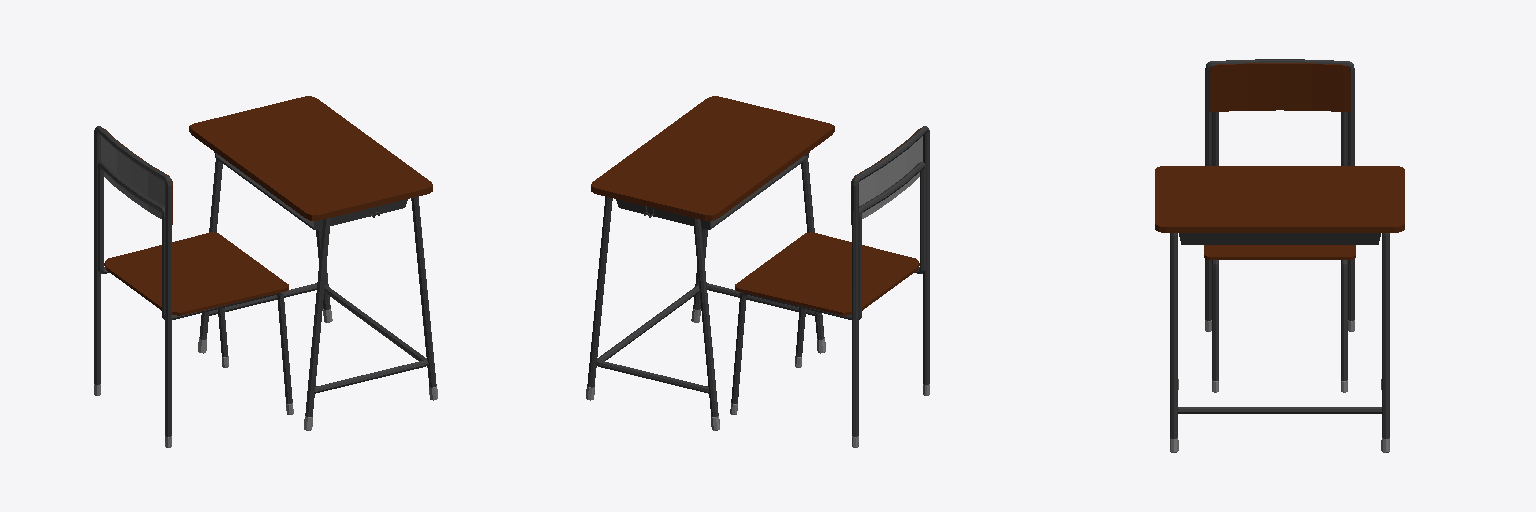
File: desk.obj
The picture shows the model from 3 angles: view 1: azimuth 30°, elevation 25°; view 2: azimuth 150°, elevation 25°; view 3: azimuth 270°, elevation 25°; orthographic projection.
Visible parts, largest first — view 1: Cube, Cube.001_Cube.002; view 2: Cube, Cube.001_Cube.002; view 3: Cube, Cube.001_Cube.002.
Boxes of the visible parts, box(x1,y1,x2,y2) form: Cube: box(189, 96, 437, 430); Cube.001_Cube.002: box(94, 126, 293, 447); Cube: box(586, 96, 834, 430); Cube.001_Cube.002: box(730, 126, 929, 447); Cube: box(1155, 166, 1404, 452); Cube.001_Cube.002: box(1204, 59, 1355, 392).
Size of the model in its own units: 5.11 by 5.11 by 4.28.